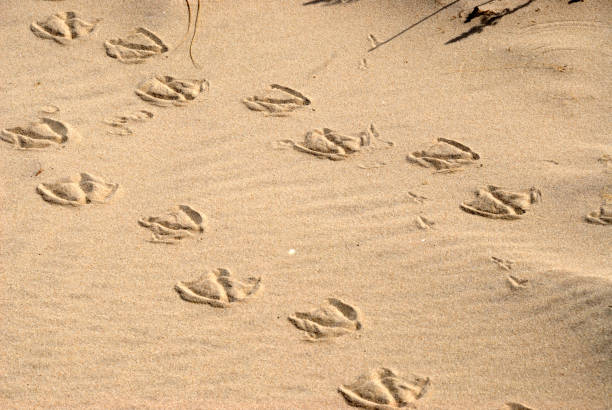animal_foot_print: (283, 124, 393, 159), (338, 367, 429, 409), (175, 268, 260, 307), (288, 298, 361, 339), (460, 185, 540, 218), (37, 173, 118, 205), (138, 205, 206, 243), (0, 117, 80, 148), (406, 138, 479, 170), (30, 11, 99, 44), (104, 27, 167, 63), (135, 75, 208, 106), (242, 84, 310, 115), (462, 0, 524, 22), (103, 110, 153, 135), (585, 203, 611, 224), (490, 256, 514, 270), (303, 0, 358, 6), (506, 275, 527, 289), (415, 215, 434, 229), (407, 191, 428, 203), (501, 402, 533, 409)
